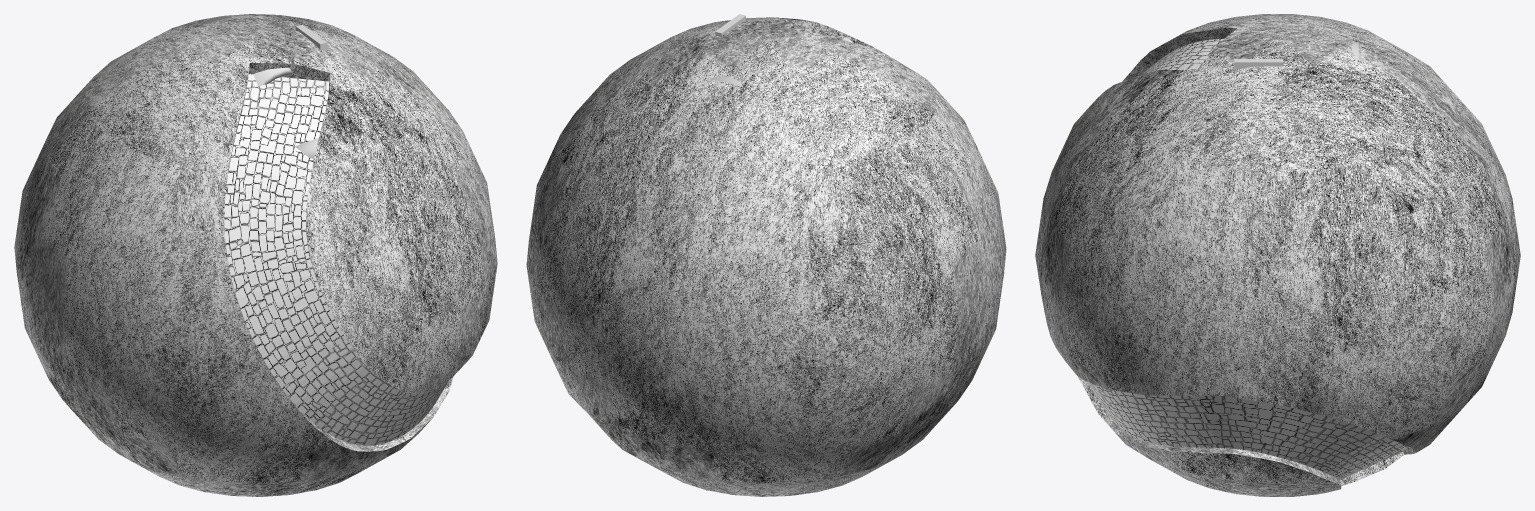
Rendered from house.glb.
The picture shows the model from 3 angles, left to right: view 1: azimuth 30°, elevation 25°; view 2: azimuth 150°, elevation 25°; view 3: azimuth 270°, elevation 25°; orthographic projection.
Visible parts, largest first — view 1: Planet, box.001; view 2: Planet; view 3: Planet, box.001.
Part boxes in pixels (x1,y1,x2,y2): Planet: (14, 14, 497, 496); box.001: (199, 16, 326, 158); Planet: (526, 17, 1006, 496); Planet: (1035, 14, 1520, 496); box.001: (1218, 42, 1358, 70).
Bounding box in the file's own units: 3.41 × 3.43 × 3.43.
Materials: 2 (2 with a texture image).
